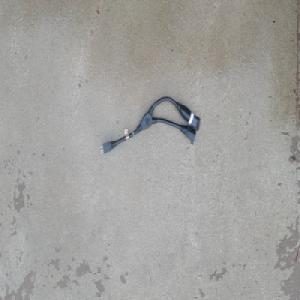Wire: (99, 95, 201, 155)
